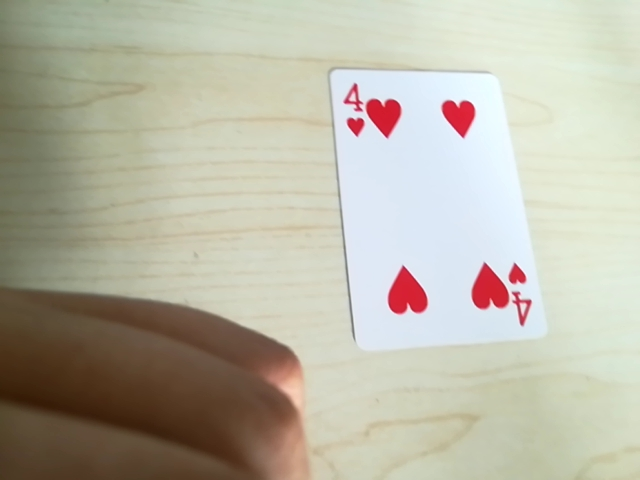hx 4: (339, 79, 381, 145), (499, 263, 534, 330)
